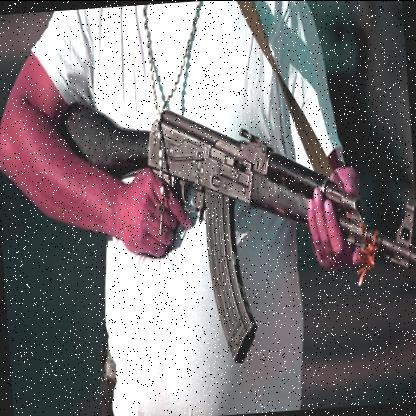rifle: (53, 69, 416, 376)
